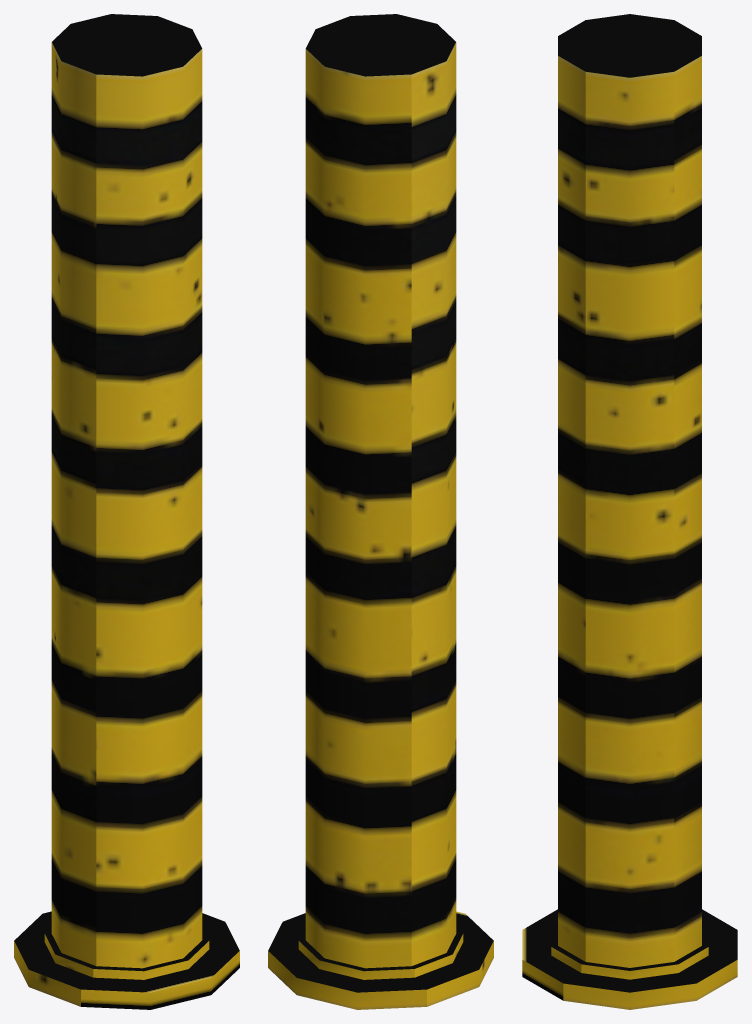
Rendered from street part 2.fbx.
The picture shows the model from 3 angles, left to right: view 1: azimuth 30°, elevation 25°; view 2: azimuth 150°, elevation 25°; view 3: azimuth 270°, elevation 25°; orthographic projection.
Visible parts, largest first — view 1: Object_38; view 2: Object_38; view 3: Object_38.
Part boxes in pixels (x1,y1,x2,y2): Object_38: (14, 14, 239, 1009); Object_38: (268, 14, 493, 1009); Object_38: (522, 14, 737, 1009).
Size of the model in its own units: 14.31 by 63.82 by 13.61.
1 material, 1 textured.
